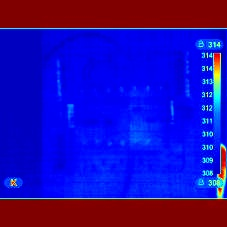Less: (193, 170, 226, 197)
